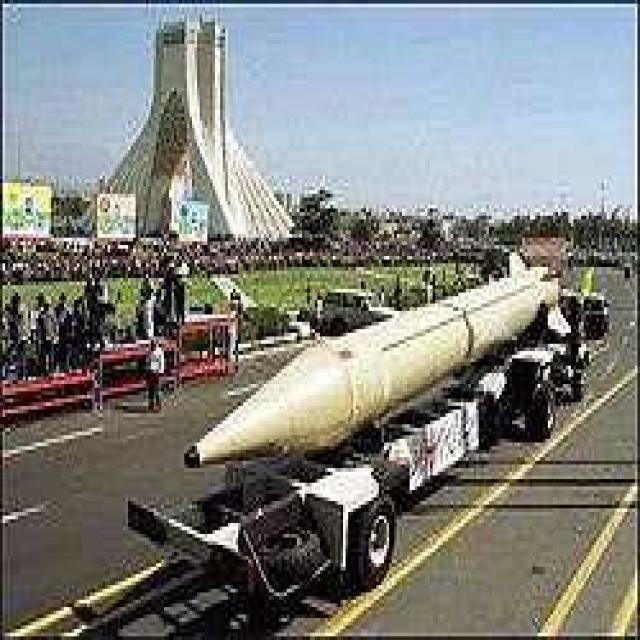missile: (186, 250, 562, 474)
